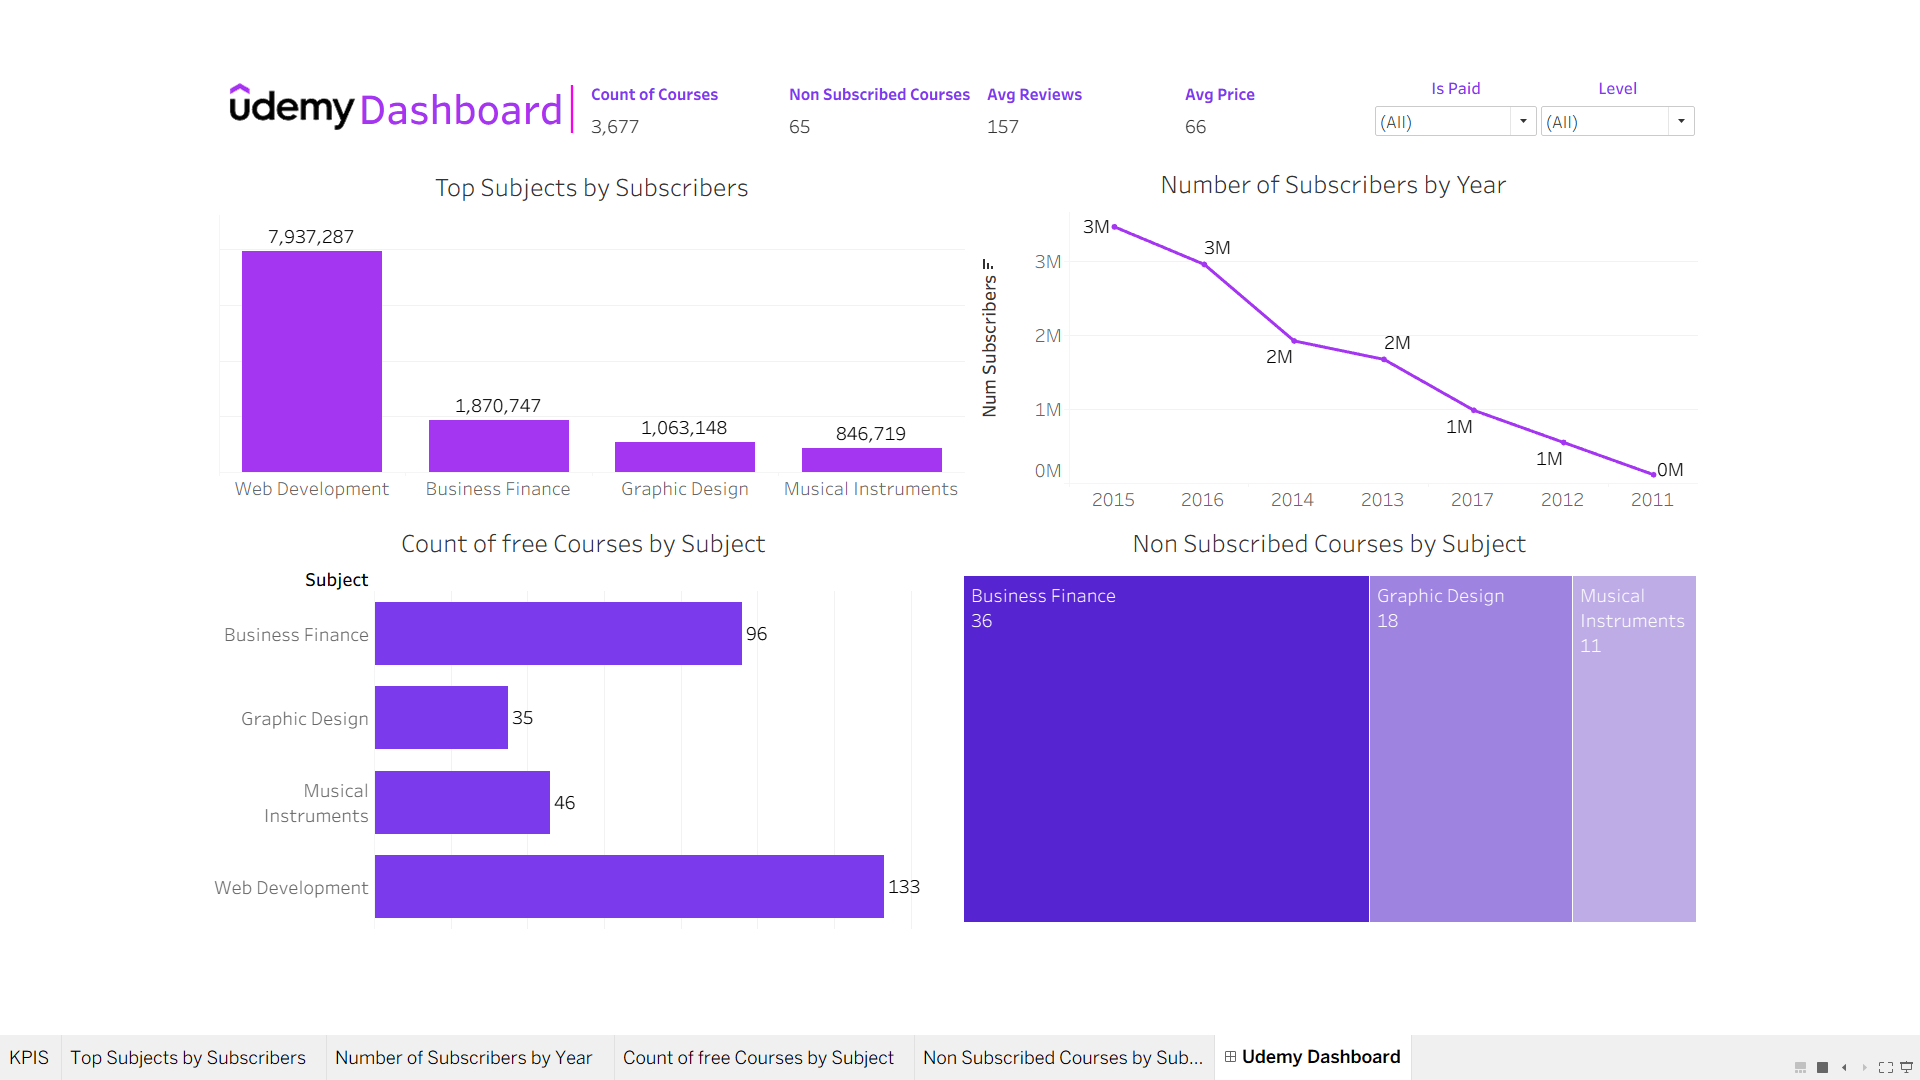

The dashboard page shown, as its layout file describes it:
{"tool":"tableau","page":{"name":"Udemy Dashboard","canvas":[1500,900],"ordinal":0},"visuals":[{"type":"text","box":[349,10,27,56]},{"type":"filter","title":"KPIS","param":"[federated.0wn9qop0oefm5i19ebmyz0l8jprp].[none:is_paid:nk]","box":[1162,10,168,70]},{"type":"filter","title":"KPIS","param":"[federated.0wn9qop0oefm5i19ebmyz0l8jprp].[none:level:nk]","box":[1328,10,160,62]},{"type":"image","param":"C:/Users/Royal/Downloads/udemy_logo_high_res_transparent.png","box":[16,12,133,60]},{"type":"worksheet","title":"KPIS","mark":"Automatic","box":[377,17,792,64]},{"type":"text","box":[136,19,219,43]},{"type":"worksheet","title":"Number of Subscribers by Year","mark":"Line","rows":["num_subscribers"],"cols":["published_timestamp"],"box":[759,96,729,349]},{"type":"worksheet","title":"Top Subjects by Subscribers","mark":"Bar","rows":["num_subscribers"],"cols":["subject"],"box":[9,99,746,346]},{"type":"worksheet","title":"Count of free Courses by Subject","mark":"Automatic","rows":["subject"],"cols":["Calculation_1245786749591553"],"box":[4,455,739,407]},{"type":"worksheet","title":"Non Subscribed Courses by Subject","mark":"Automatic","box":[749,455,741,405]}]}

Visuals, with their boxes on the page's 1500x900 design canvas (x1, y1, x2, y2). These are canvas units, not pixel positions in the 1920x1080 screenshot, which may show the page scaled, cropped or inside an application window:
text: (left=349, top=10, right=376, bottom=66)
"KPIS" filter: (left=1162, top=10, right=1330, bottom=80)
"KPIS" filter: (left=1328, top=10, right=1488, bottom=72)
image: (left=16, top=12, right=149, bottom=72)
"KPIS" worksheet: (left=377, top=17, right=1169, bottom=81)
text: (left=136, top=19, right=355, bottom=62)
"Number of Subscribers by Year" worksheet (Line marks): (left=759, top=96, right=1488, bottom=445)
"Top Subjects by Subscribers" worksheet (Bar marks): (left=9, top=99, right=755, bottom=445)
"Count of free Courses by Subject" worksheet: (left=4, top=455, right=743, bottom=862)
"Non Subscribed Courses by Subject" worksheet: (left=749, top=455, right=1490, bottom=860)
